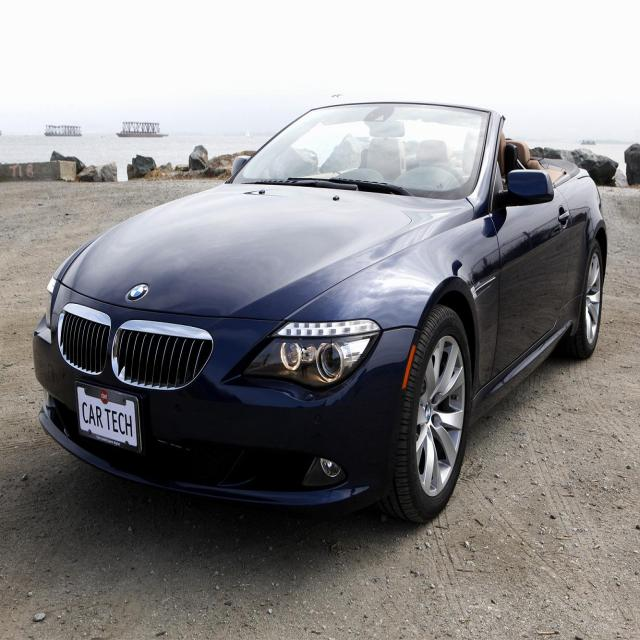Car: (27, 102, 627, 528)
